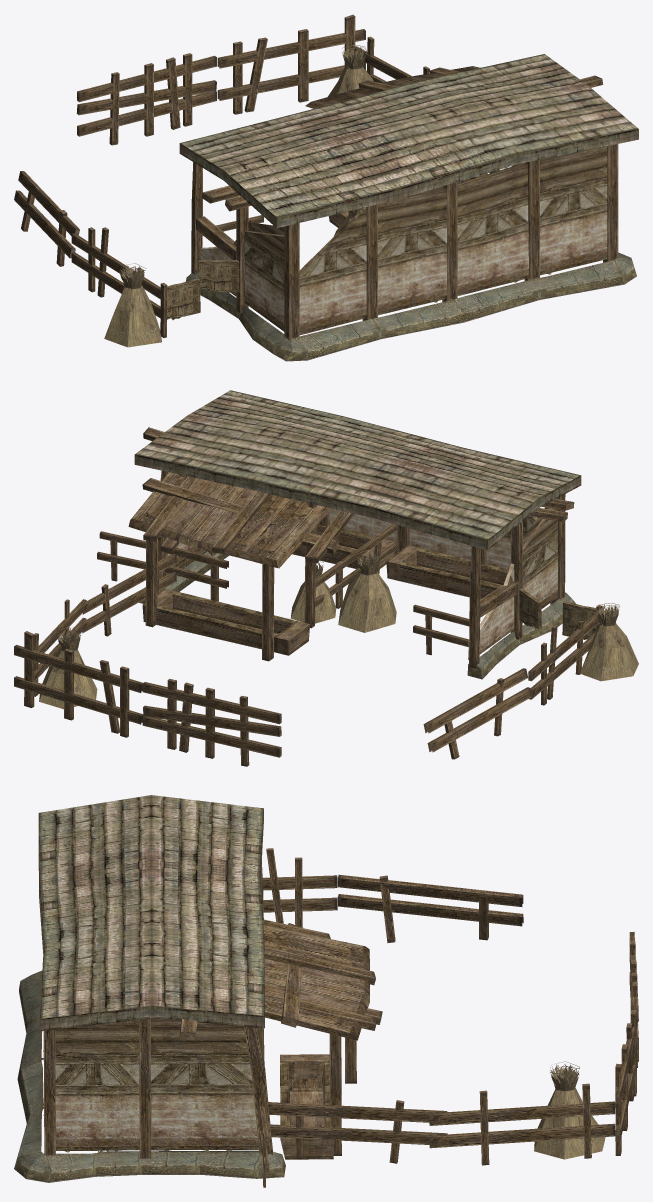
Rendered from S_Build_West088.FBX.
3 views of the same model, one above another, from view 1: azimuth 30°, elevation 25°; view 2: azimuth 150°, elevation 25°; view 3: azimuth 270°, elevation 25° (orthographic). The views are drawn at different scales.
Visible parts, largest first — view 1: S_Build_West088; view 2: S_Build_West088; view 3: S_Build_West088.
Boxes of the visible parts, <box> form: S_Build_West088: <box>14,14,638,361</box>; S_Build_West088: <box>14,390,638,766</box>; S_Build_West088: <box>14,795,638,1187</box>.
Size of the model in its own units: 1603 by 1446 by 472.
